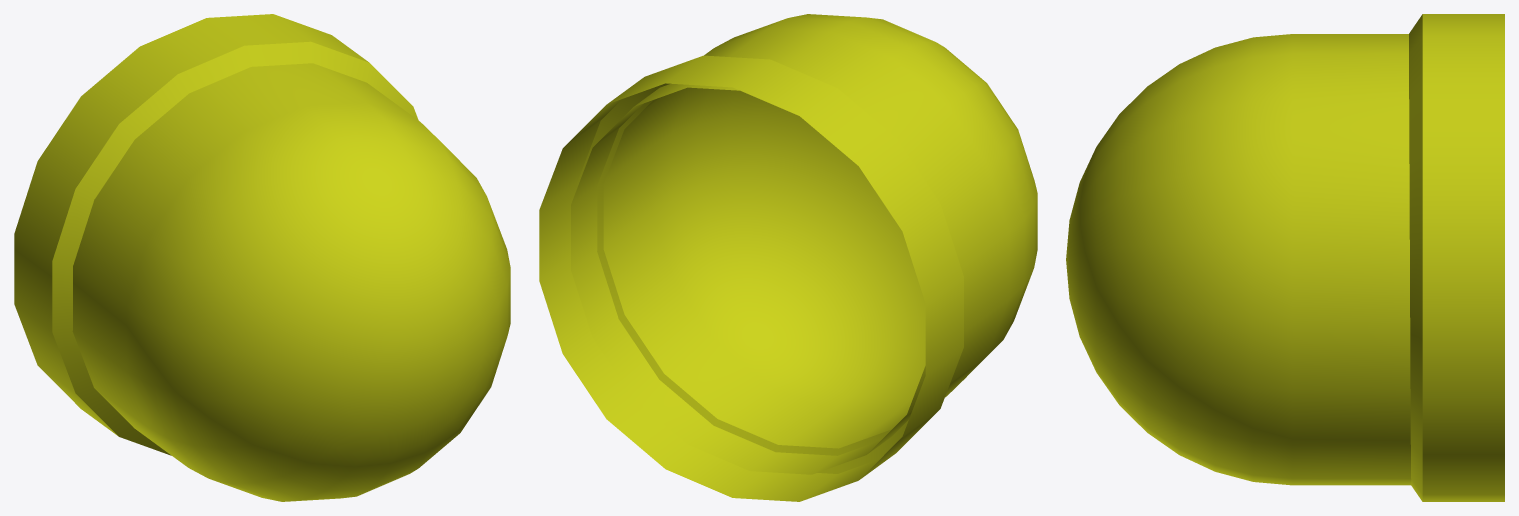
The model's file is lamp_orange.FBX.
3 renders of one model, left to right at view 1: azimuth 30°, elevation 25°; view 2: azimuth 150°, elevation 25°; view 3: azimuth 270°, elevation 25°, orthographic. The views are drawn at different scales.
Visible parts, largest first — view 1: traffic_o_emer_lamp; view 2: traffic_o_emer_lamp; view 3: traffic_o_emer_lamp.
Boxes of the visible parts, bbox=[...] form: traffic_o_emer_lamp: bbox=[14, 14, 510, 501]; traffic_o_emer_lamp: bbox=[539, 14, 1037, 501]; traffic_o_emer_lamp: bbox=[1066, 14, 1504, 501].
Bounding box in the file's own units: 16.01 × 14.56 × 16.25.
